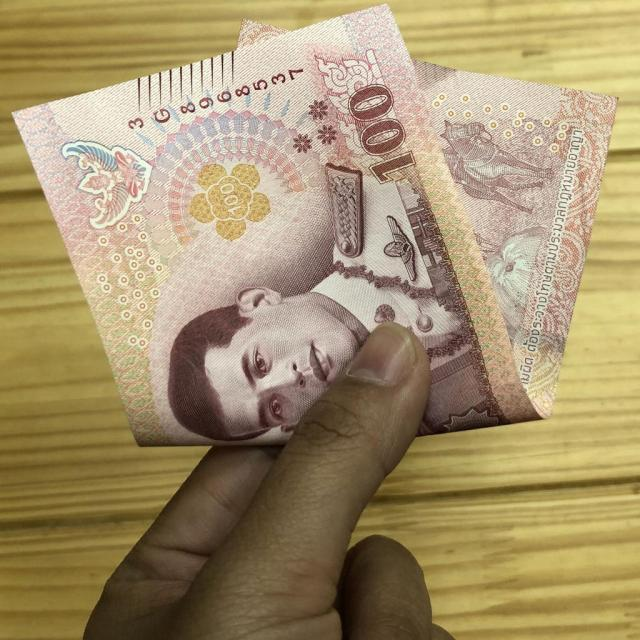THAI100: (15, 6, 614, 444)
